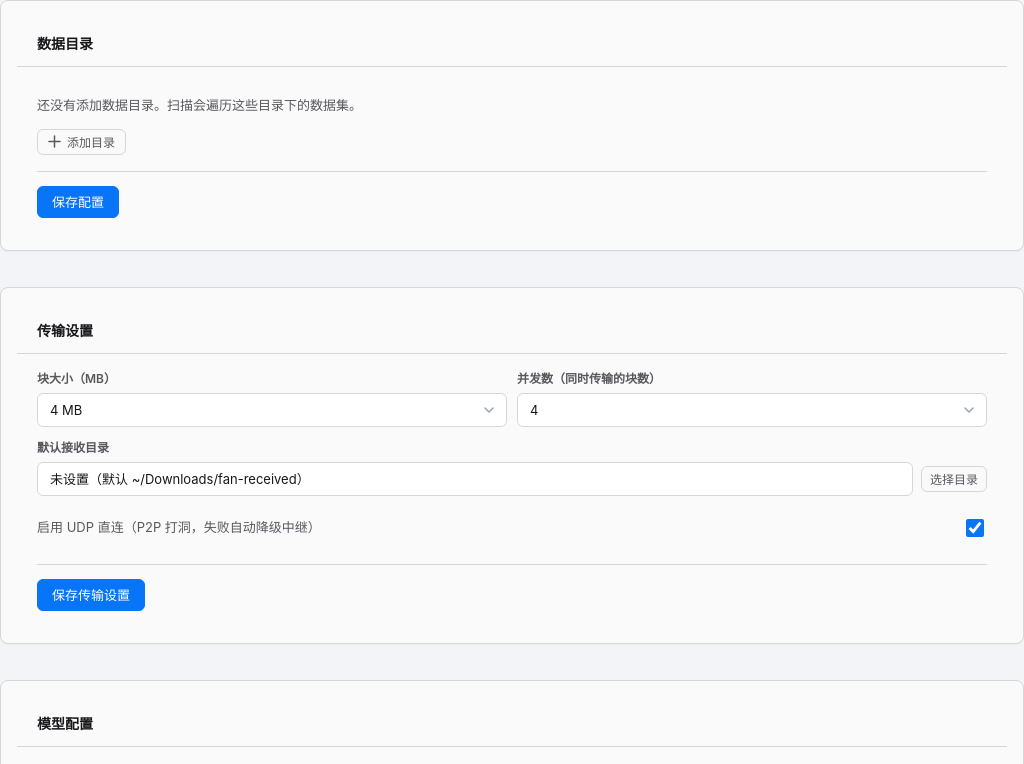
Test case: SettingsPage › shows error line when write_config fails
Click the button "保存配置" at (78, 202), box [37,186,119,218]
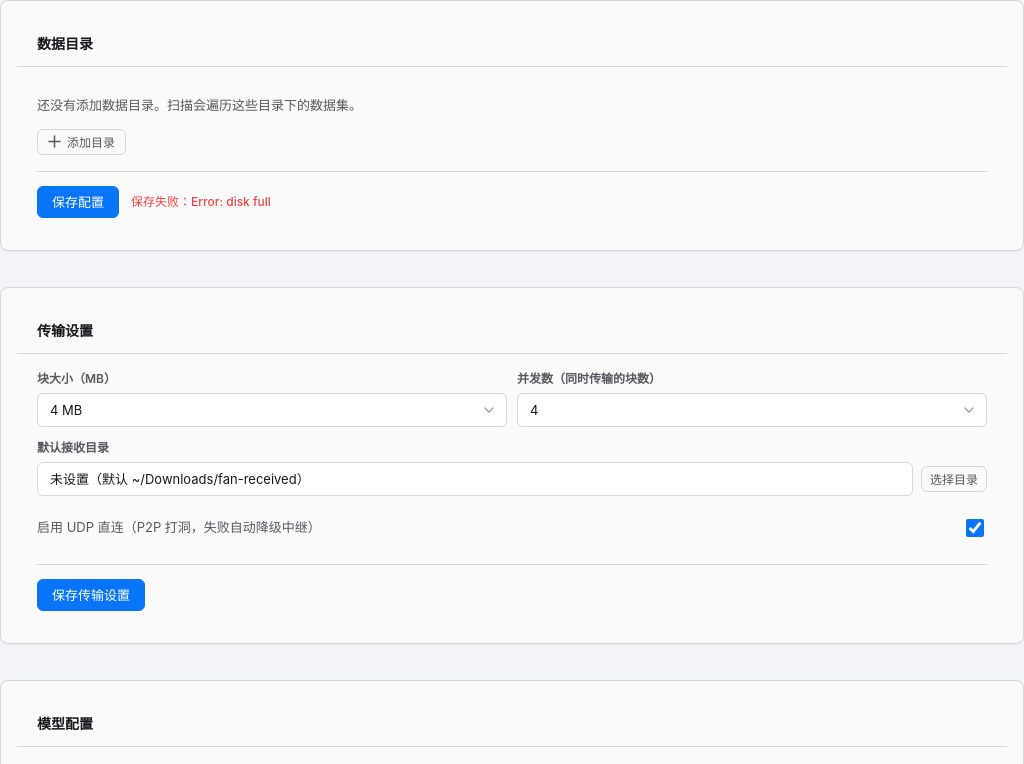
Expected: the text "保存失败：Error: disk full" is shown, [131,192,271,210]
